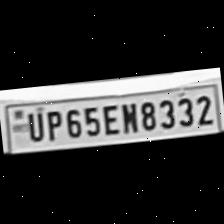2: (192, 90, 214, 127)
3: (154, 95, 176, 132), (174, 92, 194, 128)
5: (79, 103, 101, 140)
6: (62, 106, 82, 140)
8: (137, 98, 158, 134)
E: (100, 102, 119, 138)
N: (116, 99, 139, 136)
P: (42, 106, 64, 142)
U: (22, 109, 44, 145)
